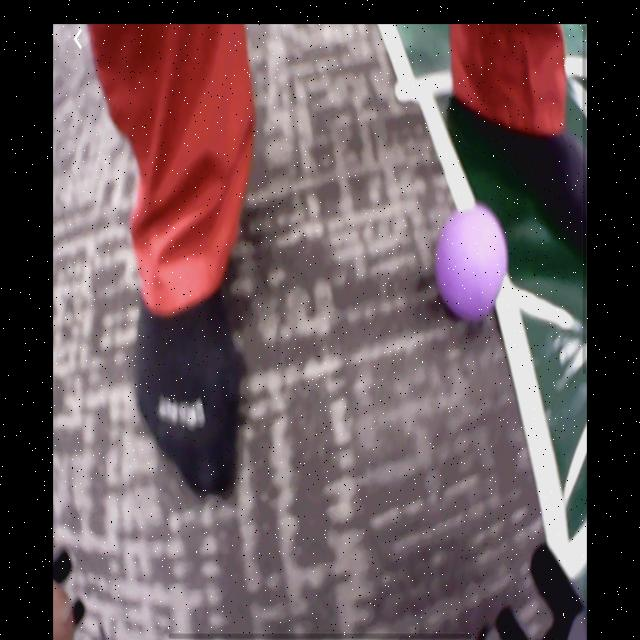ball: (437, 207, 506, 322)
